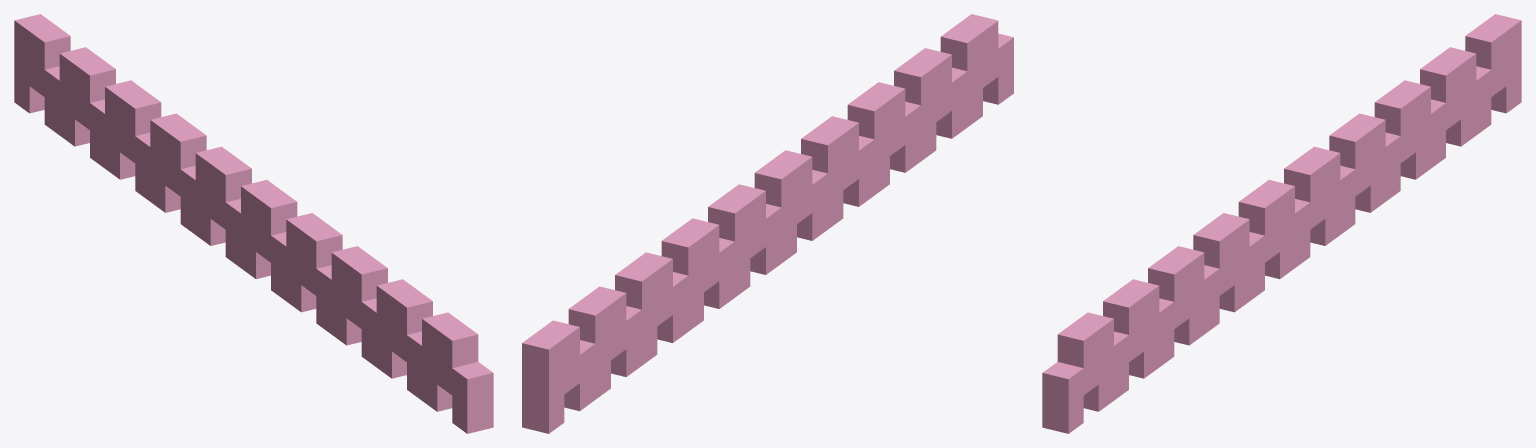
The model's file is grass_wall_deco_big_bca.obj.
3 views of the same model, side by side, from view 1: azimuth 30°, elevation 25°; view 2: azimuth 150°, elevation 25°; view 3: azimuth 330°, elevation 25° (orthographic). The views are drawn at different scales.
Bounding box in the file's own units: 0.1 × 0.3 × 3.
1 material, 1 textured.
